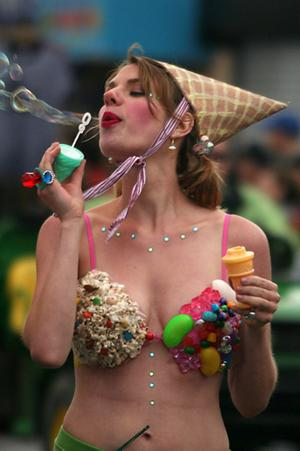person: (22, 54, 283, 449)
